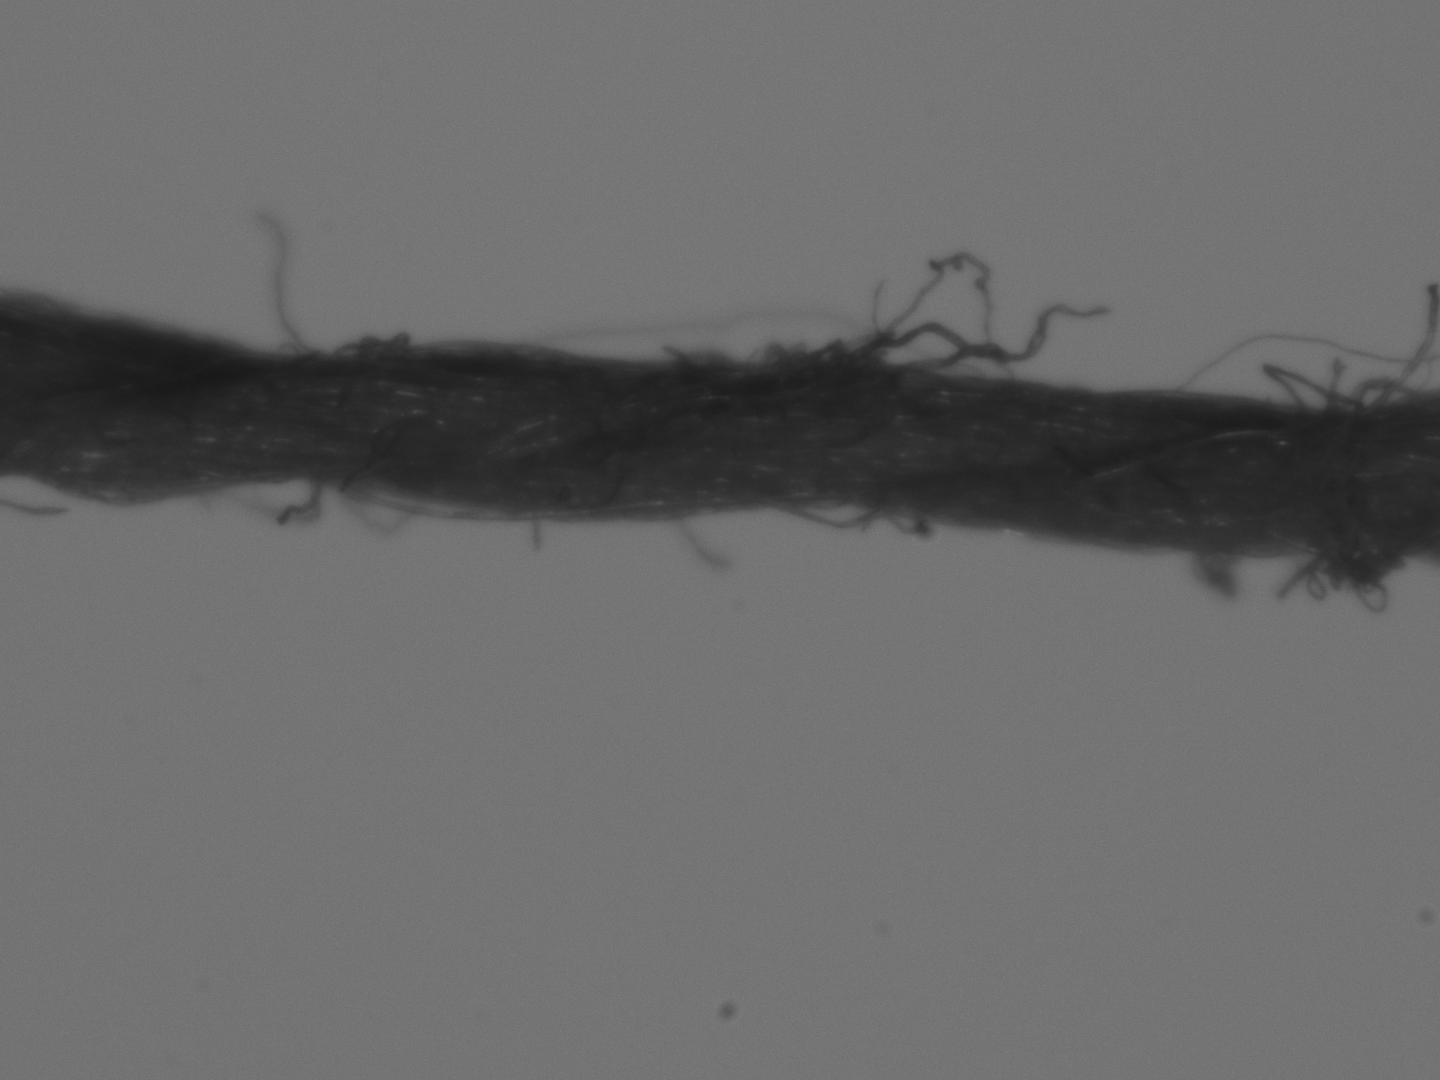loop_fiber: (518, 246, 1112, 382), (1171, 276, 1439, 417), (1271, 550, 1415, 619), (772, 495, 941, 547), (192, 475, 323, 524), (327, 474, 429, 535), (1187, 543, 1256, 607), (319, 328, 426, 363)
protruding_fiber: (246, 205, 306, 355), (672, 507, 738, 574), (525, 507, 545, 548)
